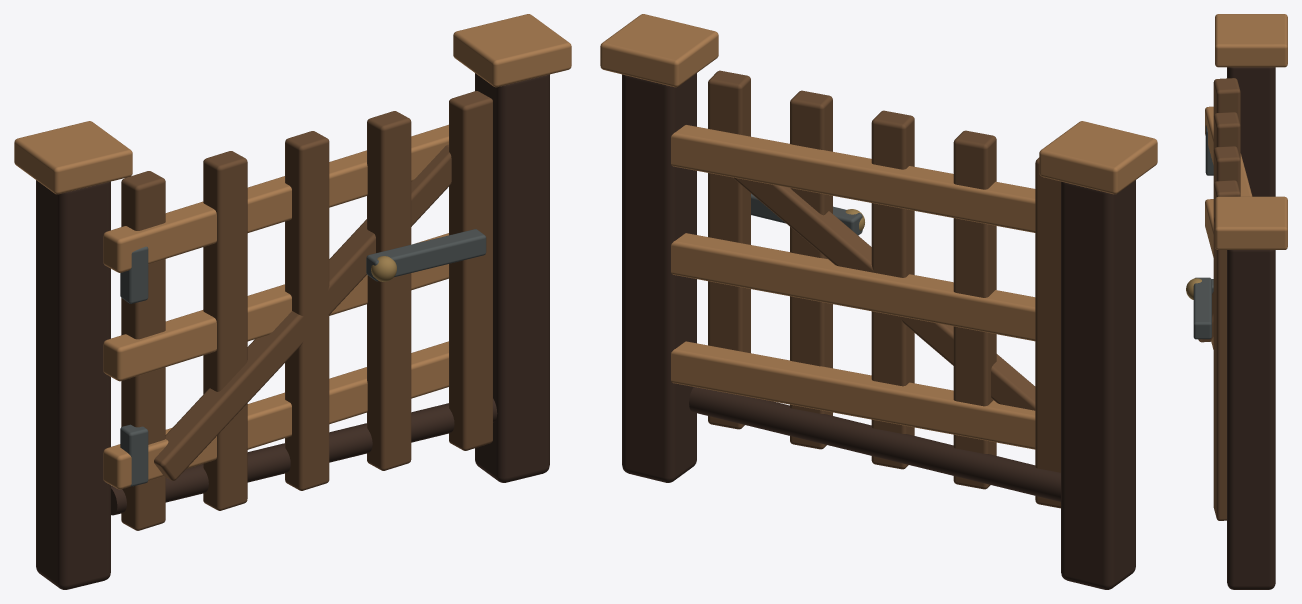
Rendered from detail_fence_gate.glb.
The picture shows the model from 3 angles, left to right: view 1: azimuth 30°, elevation 25°; view 2: azimuth 150°, elevation 25°; view 3: azimuth 270°, elevation 25°; orthographic projection. The views are drawn at different scales.
Visible parts, largest first — view 1: wood, stone; view 2: wood, stone; view 3: wood, stone.
Part boxes in pixels (box(x1,y1,x2,y2)): wood: box(14, 14, 571, 589); stone: box(120, 229, 486, 486); wood: box(600, 14, 1157, 589); stone: box(751, 193, 862, 235); wood: box(1186, 14, 1287, 589); stone: box(1193, 125, 1213, 339).
Size of the model in its own units: 1.5 by 1.2 by 0.3.
